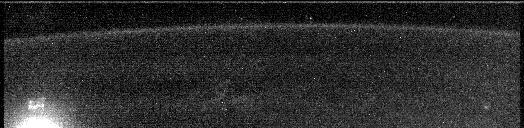positive: (25, 97, 47, 113)
